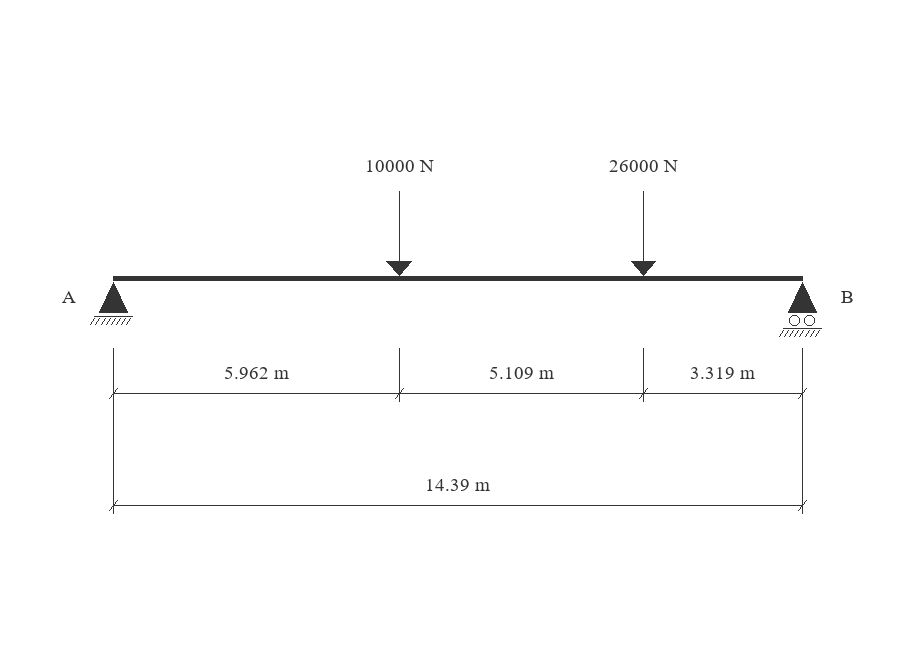pin_support: (90, 282, 133, 325)
point_load: (386, 191, 412, 276), (631, 191, 656, 276)
roller_support: (779, 282, 822, 337)
